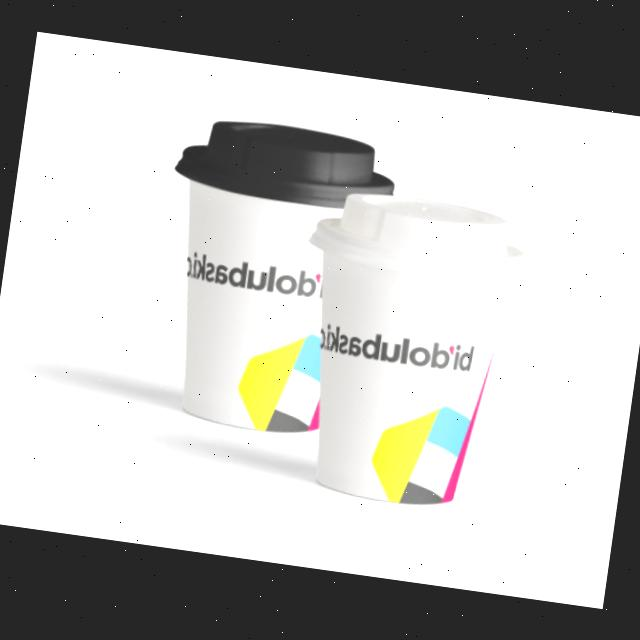trash: (280, 176, 532, 546)
